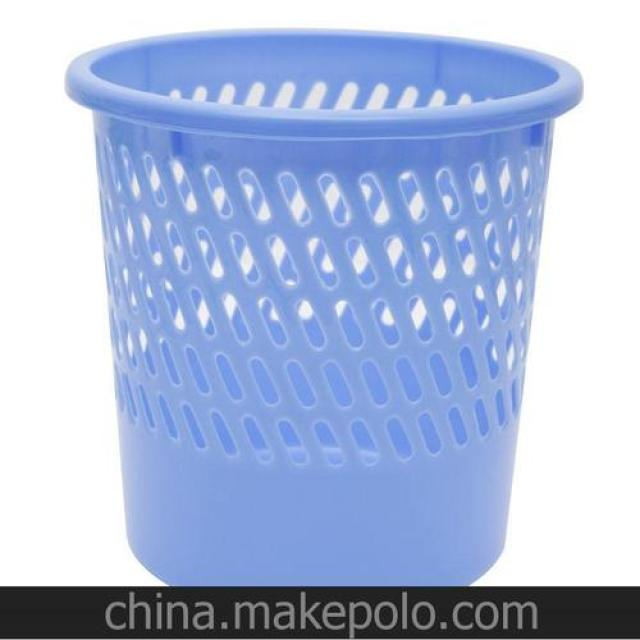dustbin: (60, 20, 589, 581)
